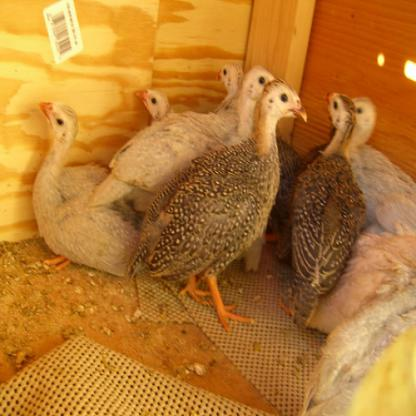bird: (127, 79, 306, 333), (90, 66, 277, 208), (277, 93, 366, 322), (31, 102, 141, 279), (214, 63, 303, 241), (344, 94, 415, 233), (132, 85, 170, 120)
